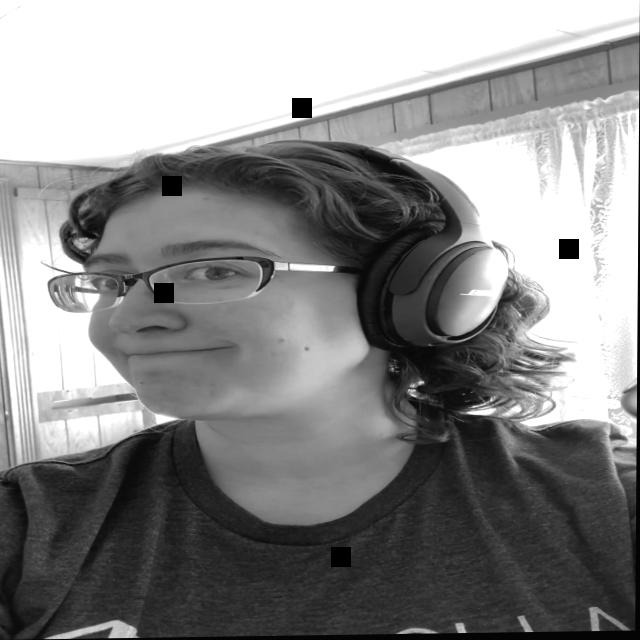NO-Mask: (89, 172, 394, 418)
